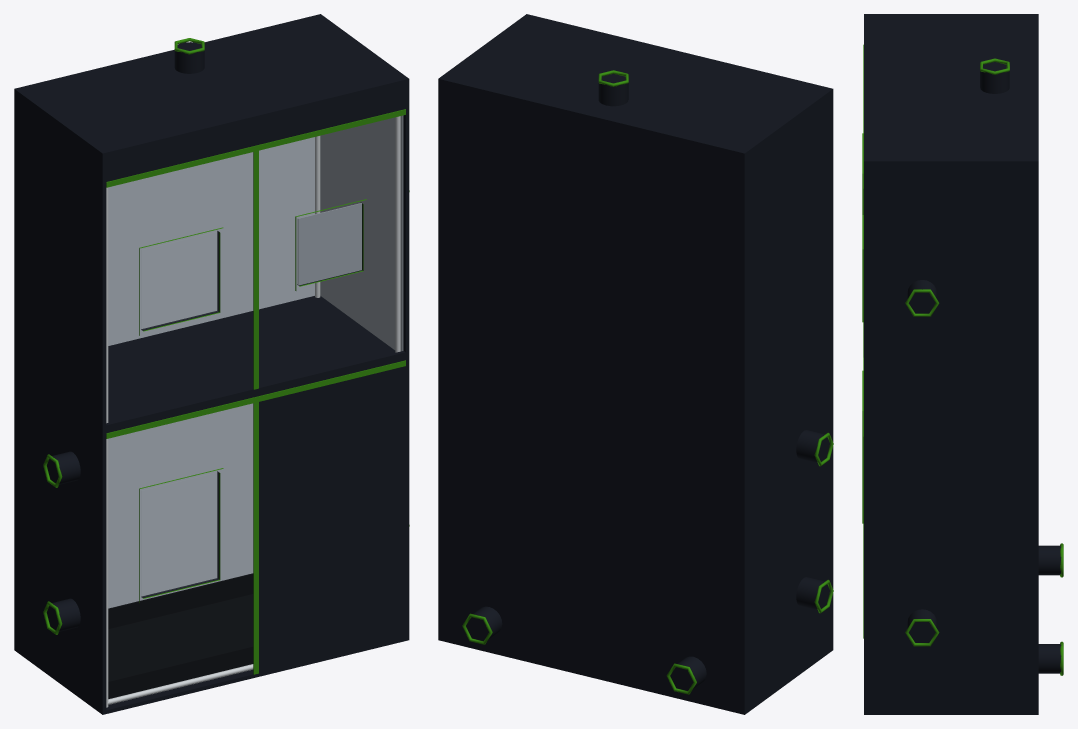
File: grow-tent-120x60x210.glb
The picture shows the model from 3 angles, left to right: view 1: azimuth 30°, elevation 25°; view 2: azimuth 150°, elevation 25°; view 3: azimuth 270°, elevation 25°; orthographic projection.
Visible parts, largest first — view 1: lining, panel_side_left, door_main_right, panel_top, divider_shelf, panel_upper_front, floor_tray, zips, tray_lips, vent_window_pane, poles_corner, panel_side_right (+6 smaller); view 2: panel_back, panel_side_left, panel_top, panel_side_right, panel_bottom, vent_port_roof_sleeve, vent_port_side_left_upper_sleeve; view 3: panel_side_right, panel_top, cable_port_1_sleeve, panel_bottom, cable_port_2_sleeve, vent_port_roof_sleeve, zips, vent_port_upper_chamber_iris, vent_port_side_right_lower_iris.
Part boxes in pixels (bbox=[...]): lining: bbox=[108, 115, 403, 608]; panel_side_left: bbox=[14, 93, 106, 710]; door_main_right: bbox=[259, 366, 405, 672]; panel_top: bbox=[14, 14, 409, 156]; divider_shelf: bbox=[108, 296, 395, 422]; panel_upper_front: bbox=[106, 83, 405, 181]; floor_tray: bbox=[108, 594, 253, 680]; zips: bbox=[106, 109, 405, 674]; tray_lips: bbox=[108, 573, 253, 698]; vent_window_pane: bbox=[297, 203, 361, 285]; poles_corner: bbox=[106, 116, 400, 707]; panel_side_right: bbox=[403, 82, 409, 636]; panel_back: bbox=[441, 83, 741, 710]; panel_side_left: bbox=[741, 93, 833, 711]; panel_top: bbox=[438, 14, 833, 157]; panel_side_right: bbox=[438, 82, 441, 637]; panel_bottom: bbox=[438, 636, 833, 714]; vent_port_roof_sleeve: bbox=[598, 83, 628, 106]; vent_port_side_left_upper_sleeve: bbox=[796, 430, 824, 463]; panel_side_right: bbox=[864, 165, 1038, 711]; panel_top: bbox=[864, 14, 1038, 165]; cable_port_1_sleeve: bbox=[1038, 545, 1061, 575]; panel_bottom: bbox=[864, 711, 1038, 714]; cable_port_2_sleeve: bbox=[1038, 644, 1061, 673]; vent_port_roof_sleeve: bbox=[980, 71, 1009, 93]; zips: bbox=[863, 44, 863, 638]; vent_port_upper_chamber_iris: bbox=[909, 292, 935, 313]; vent_port_side_right_lower_iris: bbox=[909, 622, 935, 642].
Bounding box in the file's own units: 1.37 × 2.19 × 0.692.
